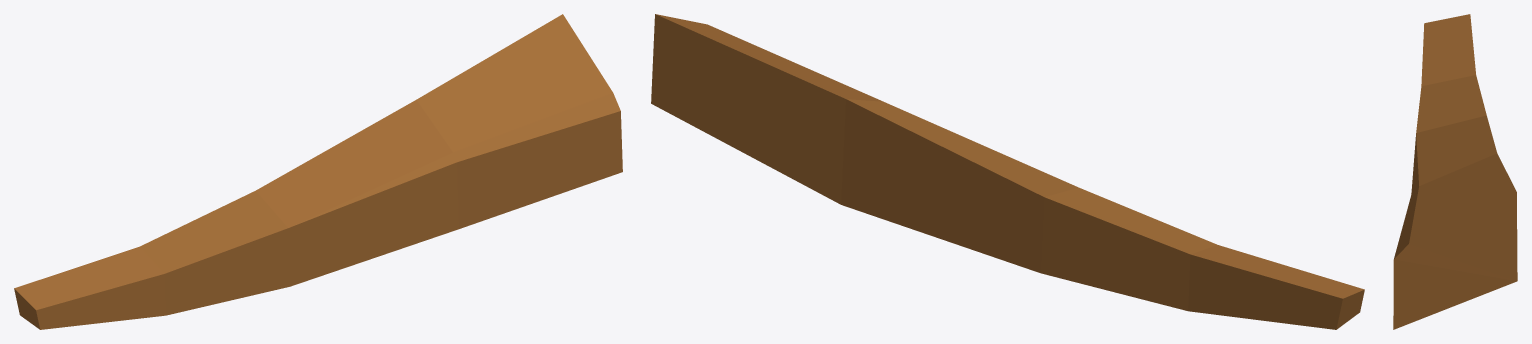
The model's file is wood.obj.
The picture shows the model from 3 angles, left to right: view 1: azimuth 30°, elevation 25°; view 2: azimuth 150°, elevation 25°; view 3: azimuth 270°, elevation 25°; orthographic projection. The views are drawn at different scales.
Visible parts, largest first — view 1: Cube.522_Cube.001; view 2: Cube.522_Cube.001; view 3: Cube.522_Cube.001.
Part boxes in pixels (<box>): Cube.522_Cube.001: <box>14,14,622,329</box>; Cube.522_Cube.001: <box>651,14,1364,329</box>; Cube.522_Cube.001: <box>1393,14,1517,329</box>.
Bounding box in the file's own units: 1.25 × 0.3384 × 0.2061.
